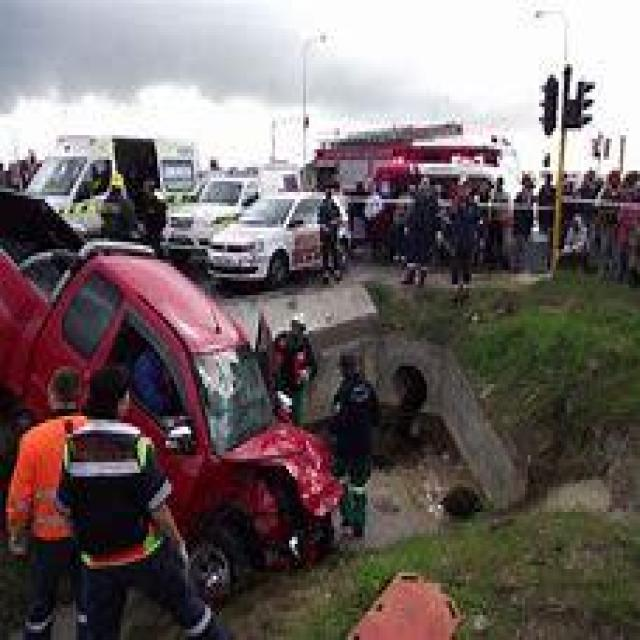Nguy hiểm: (0, 156, 354, 640)
